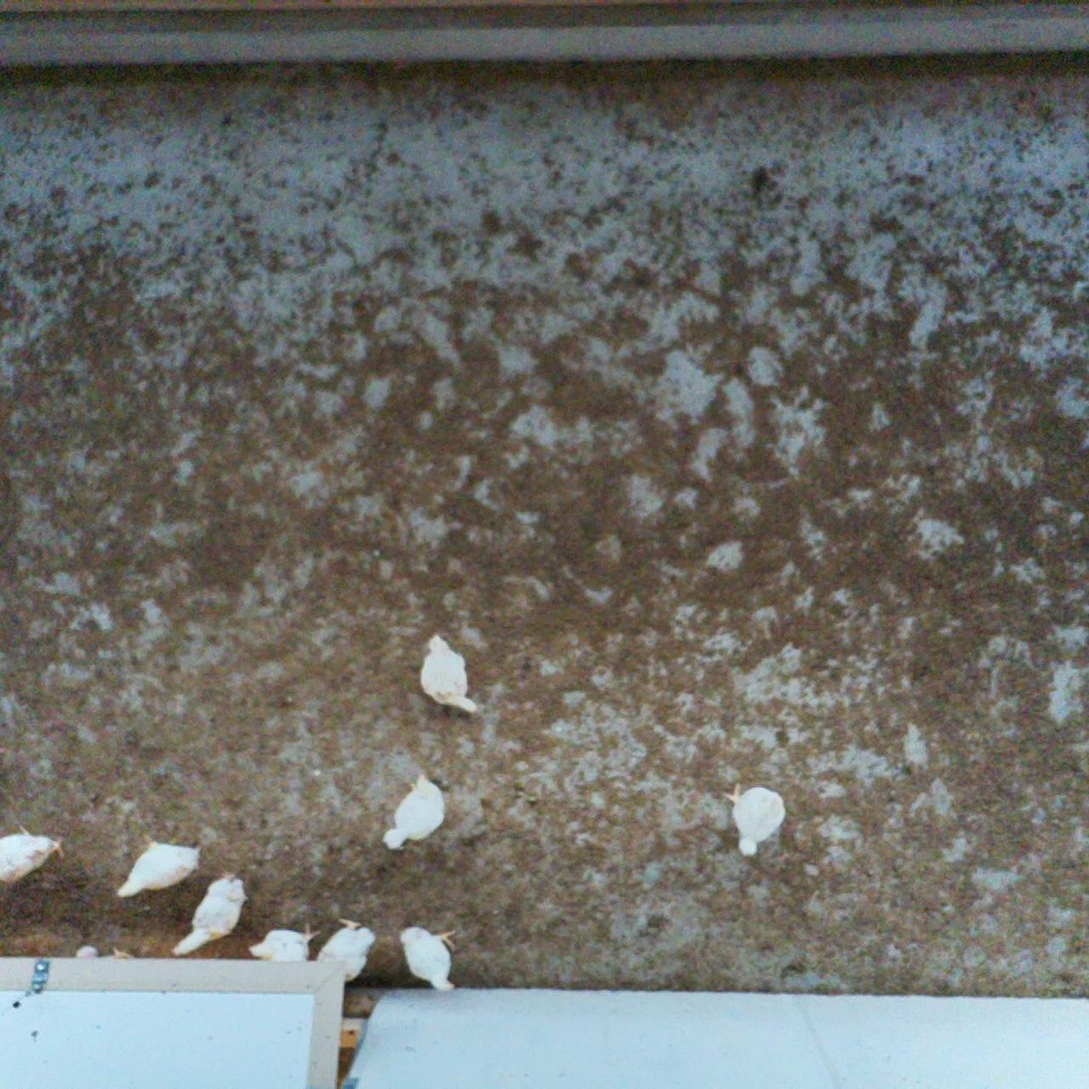chicken: (112, 828, 208, 902), (174, 869, 249, 957), (418, 633, 485, 719), (380, 772, 448, 856), (723, 776, 788, 861), (398, 918, 460, 995), (313, 915, 377, 981), (0, 824, 67, 883), (246, 920, 319, 963)
